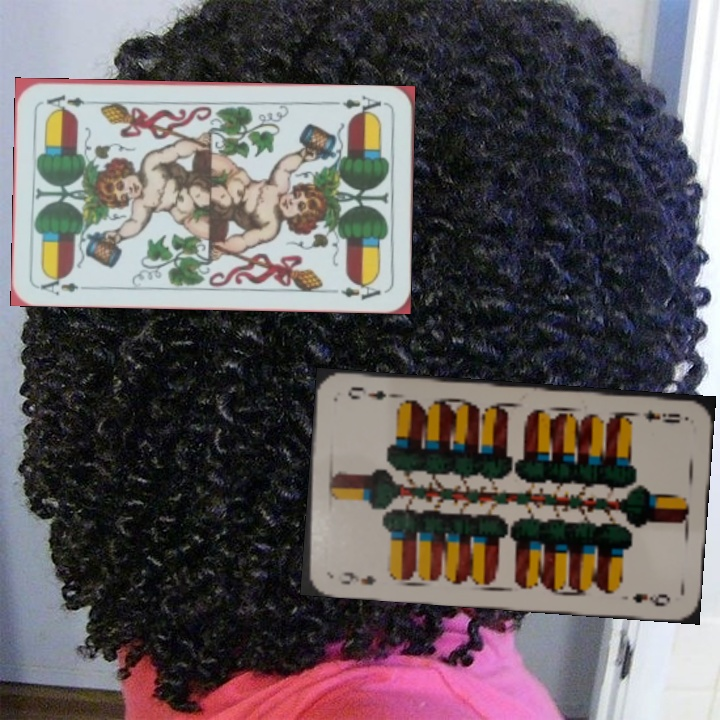E9: (639, 406, 683, 426), (337, 568, 378, 588)
EA: (36, 271, 95, 298), (338, 92, 388, 119)
